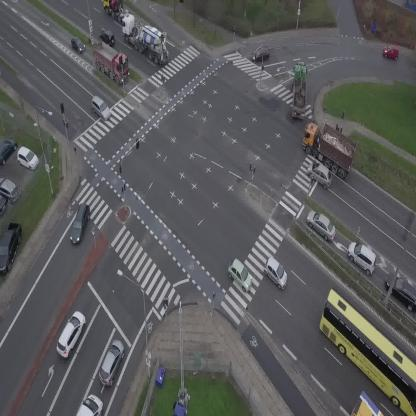car: (51, 308, 90, 359), (95, 337, 129, 388), (342, 237, 384, 276), (302, 205, 342, 243), (222, 257, 259, 293), (259, 255, 294, 290), (67, 202, 93, 245), (303, 158, 337, 189), (86, 93, 115, 122), (66, 34, 87, 57), (98, 28, 118, 47), (251, 46, 270, 61), (384, 45, 398, 60)
lorry: (293, 115, 365, 180), (111, 11, 178, 68), (84, 36, 138, 87), (291, 64, 308, 117), (76, 394, 102, 416), (103, 0, 129, 21)
